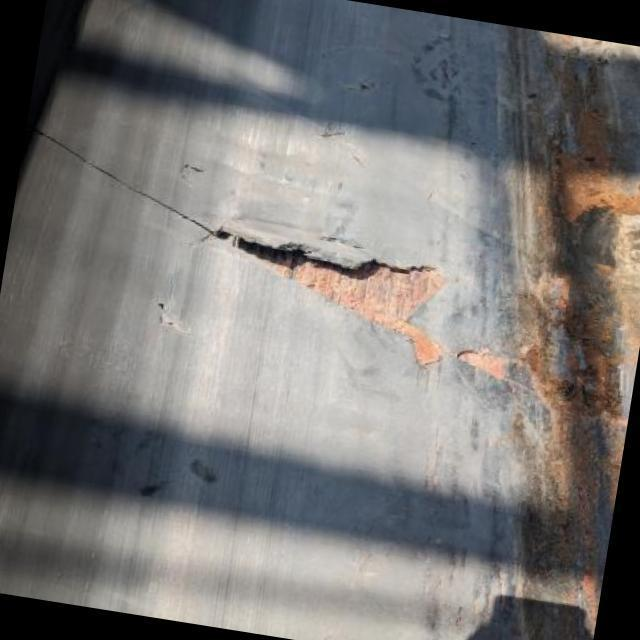Tear: (0, 109, 514, 387), (147, 271, 191, 340), (311, 40, 397, 66), (313, 112, 353, 148), (174, 156, 209, 184), (342, 77, 388, 96)
